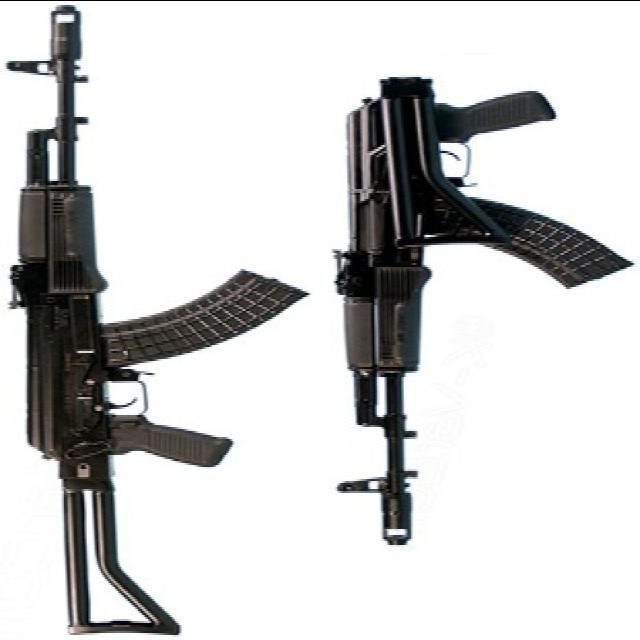rifle: (2, 1, 300, 633), (336, 75, 633, 547)
